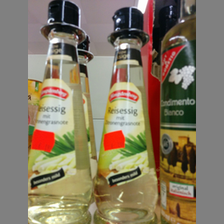vinegar: (29, 1, 94, 224), (95, 8, 162, 224)
